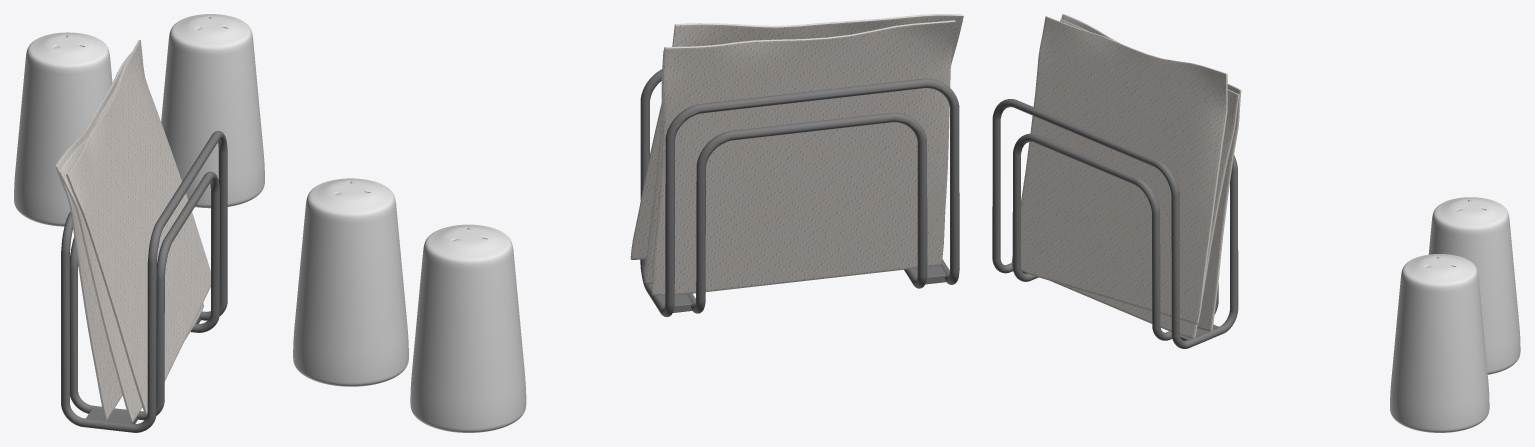
The model's file is saltandpapper.fbx.
The picture shows the model from 3 angles, left to right: view 1: azimuth 30°, elevation 25°; view 2: azimuth 150°, elevation 25°; view 3: azimuth 270°, elevation 25°; orthographic projection. The views are drawn at different scales.
Parts seen in each view (by area): view 1: Salt&paperTowelsOBJ.002, Salt&paperTowelsOBJ.001, Salt&paperTowelsOBJ; view 2: Salt&paperTowelsOBJ.002, Salt&paperTowelsOBJ.001, Salt&paperTowelsOBJ; view 3: Salt&paperTowelsOBJ.002, Salt&paperTowelsOBJ.001, Salt&paperTowelsOBJ.
Part boxes in pixels (left/top/right/bottom): Salt&paperTowelsOBJ.002: left=55, top=40, right=210, bottom=422; Salt&paperTowelsOBJ.001: left=14, top=14, right=264, bottom=226; Salt&paperTowelsOBJ: left=61, top=131, right=227, bottom=432; Salt&paperTowelsOBJ.002: left=630, top=14, right=963, bottom=295; Salt&paperTowelsOBJ.001: left=293, top=178, right=526, bottom=432; Salt&paperTowelsOBJ: left=640, top=69, right=959, bottom=316; Salt&paperTowelsOBJ.002: left=1011, top=14, right=1241, bottom=338; Salt&paperTowelsOBJ.001: left=1390, top=197, right=1520, bottom=432; Salt&paperTowelsOBJ: left=992, top=99, right=1238, bottom=348.
Size of the model in its own units: 2102 by 1373 by 2566.
